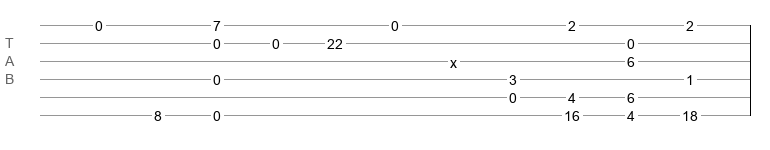0: (95, 18, 103, 28), (213, 108, 221, 118), (213, 72, 221, 82), (213, 36, 221, 46), (272, 36, 280, 46), (391, 18, 399, 28), (509, 90, 517, 100), (627, 36, 635, 46)
1: (686, 72, 694, 82)
16: (564, 108, 580, 118)
18: (682, 108, 698, 118)
2: (568, 18, 576, 28), (686, 18, 694, 28)
22: (327, 36, 343, 46)
3: (509, 72, 517, 82)
4: (568, 90, 576, 100), (627, 108, 635, 118)
6: (627, 54, 635, 64), (627, 90, 635, 100)
7: (213, 18, 221, 28)
8: (154, 108, 162, 118)
x: (450, 55, 457, 63)
